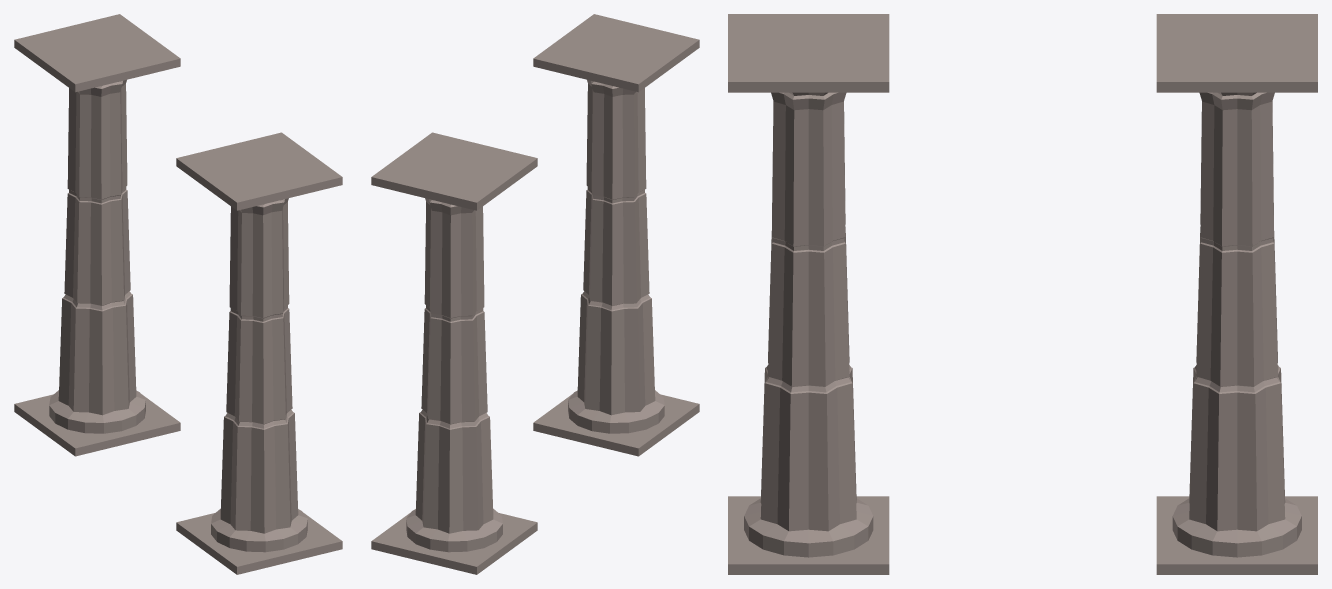
Rendered from Greek_Floor_Pillars.fbx.
3 renders of one model, left to right at view 1: azimuth 30°, elevation 25°; view 2: azimuth 150°, elevation 25°; view 3: azimuth 270°, elevation 25°, orthographic. The views are drawn at different scales.
Parts seen in each view (by area): view 1: Greek_Floor_Pillars; view 2: Greek_Floor_Pillars; view 3: Greek_Floor_Pillars.
Boxes of the visible parts, left/top/right/bottom form: Greek_Floor_Pillars: left=14, top=14, right=342, bottom=574; Greek_Floor_Pillars: left=371, top=14, right=699, bottom=574; Greek_Floor_Pillars: left=728, top=14, right=1317, bottom=574.
Bounding box in the file's own units: 33.74 × 123 × 114.
